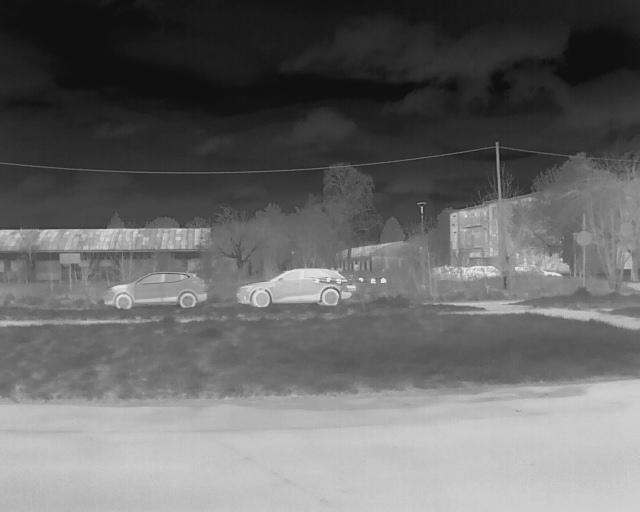drone: (318, 272, 387, 316)
